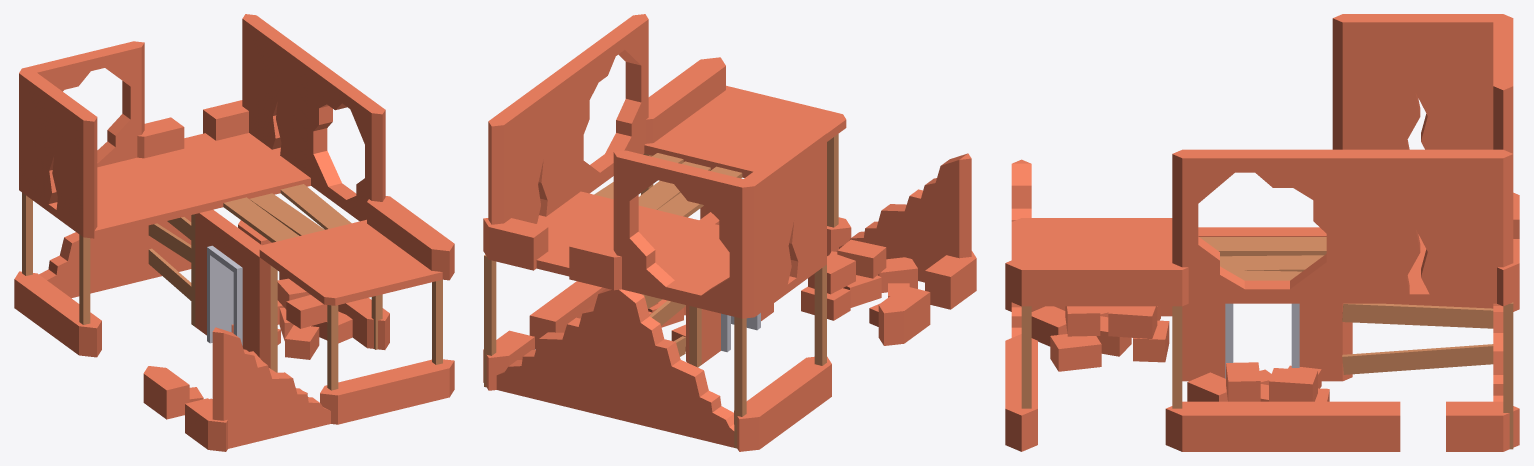
The model's file is Casa9SemiRota.FBX.
The picture shows the model from 3 angles, left to right: view 1: azimuth 30°, elevation 25°; view 2: azimuth 150°, elevation 25°; view 3: azimuth 270°, elevation 25°; orthographic projection. The views are drawn at different scales.
Visible parts, largest first — view 1: wall_straightHole_192; view 2: wall_straightHole_192; view 3: wall_straightHole_192.
Part boxes in pixels (left/top/right/bottom): wall_straightHole_192: left=14, top=14, right=454, bottom=451; wall_straightHole_192: left=483, top=14, right=976, bottom=451; wall_straightHole_192: left=1005, top=14, right=1519, bottom=451.
Size of the model in its own units: 2205 by 2000 by 3205.
